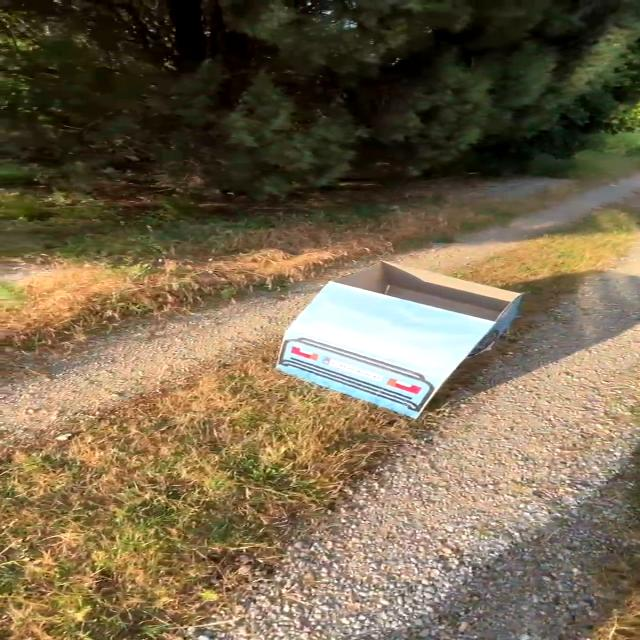blue_car: (239, 227, 555, 435)
